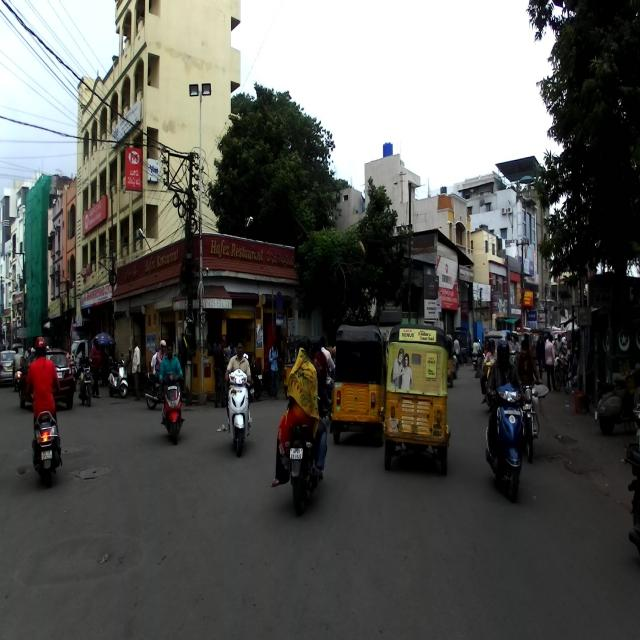autorickshaw: (381, 321, 452, 472), (328, 321, 389, 446)
motorcycle: (282, 398, 334, 518), (26, 372, 64, 488), (515, 378, 542, 463), (144, 369, 168, 410), (79, 362, 92, 407)
scooter: (484, 380, 530, 504), (595, 361, 640, 437), (225, 367, 253, 457), (158, 370, 188, 448), (108, 353, 128, 398)
